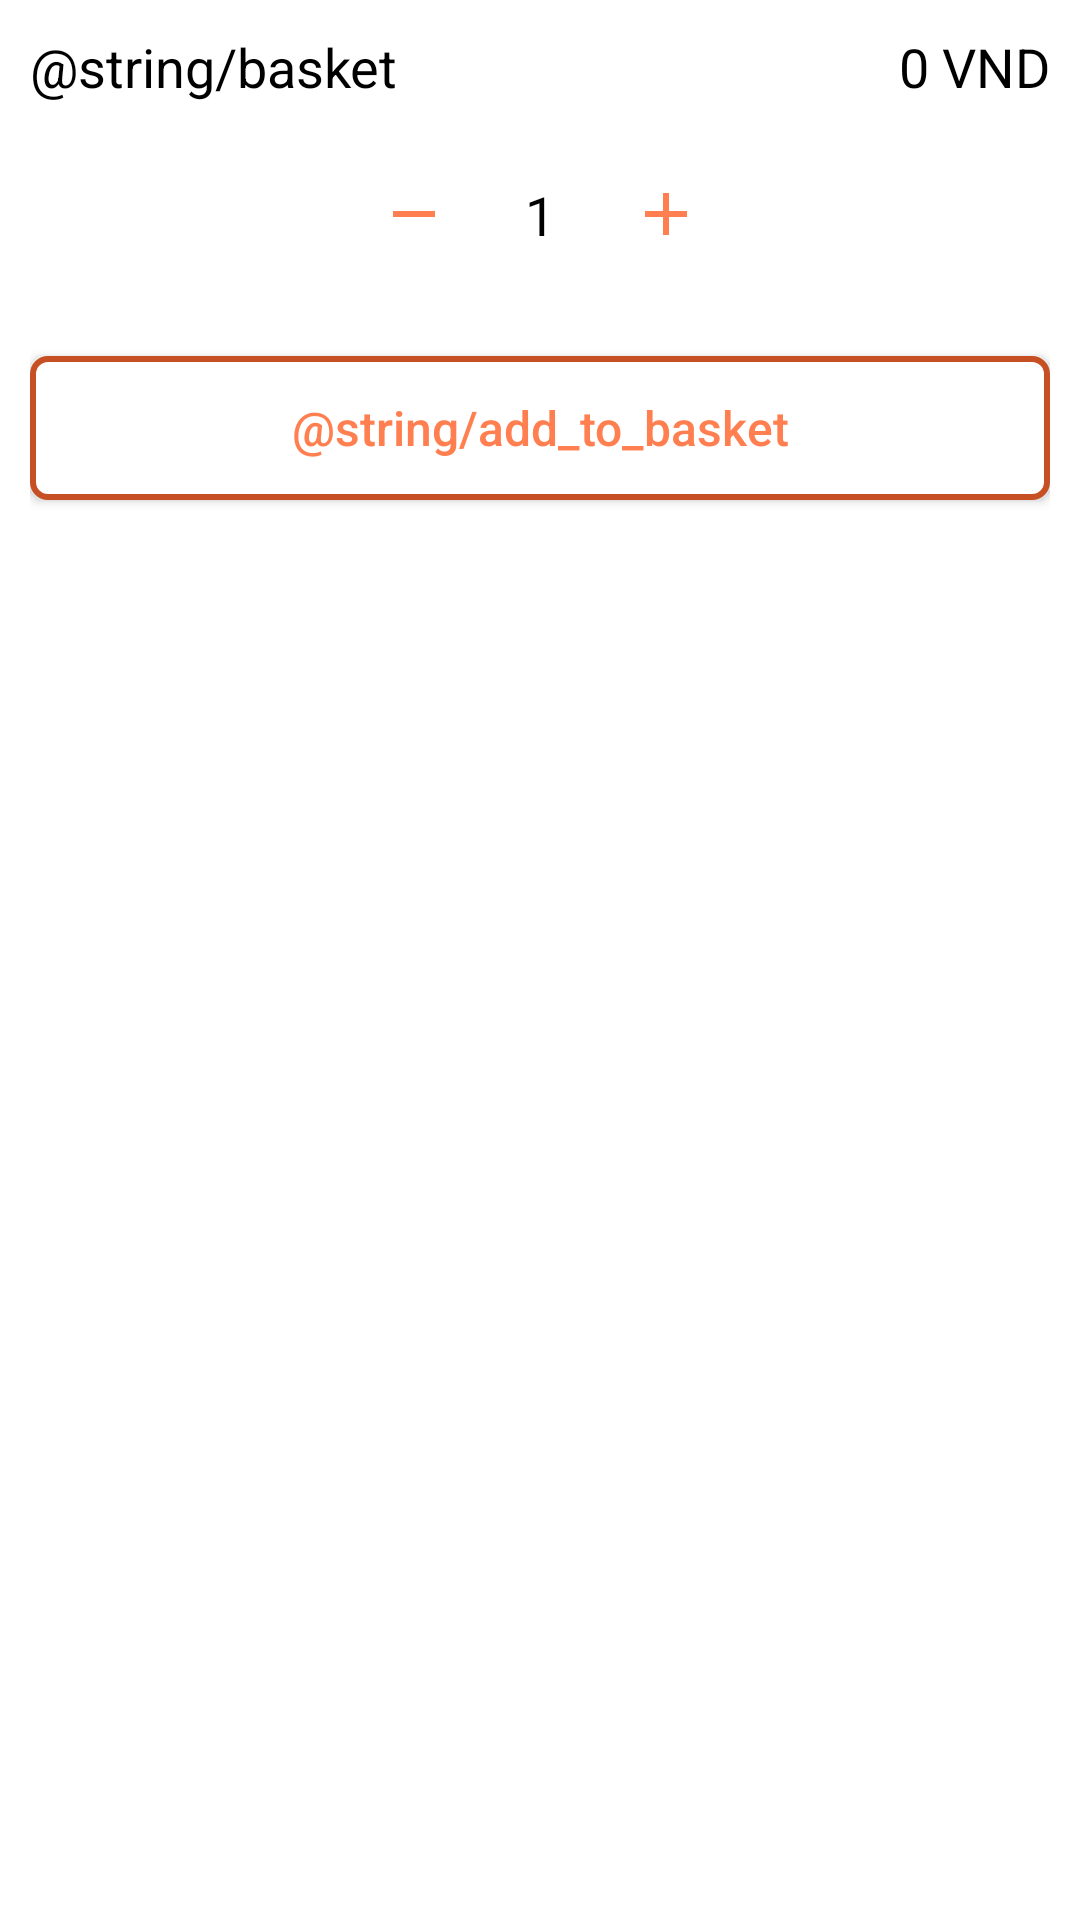

Icon click points for this 1080×1920 phone screenshot, format (x=x, y=y):
plus: (x=666, y=214)
